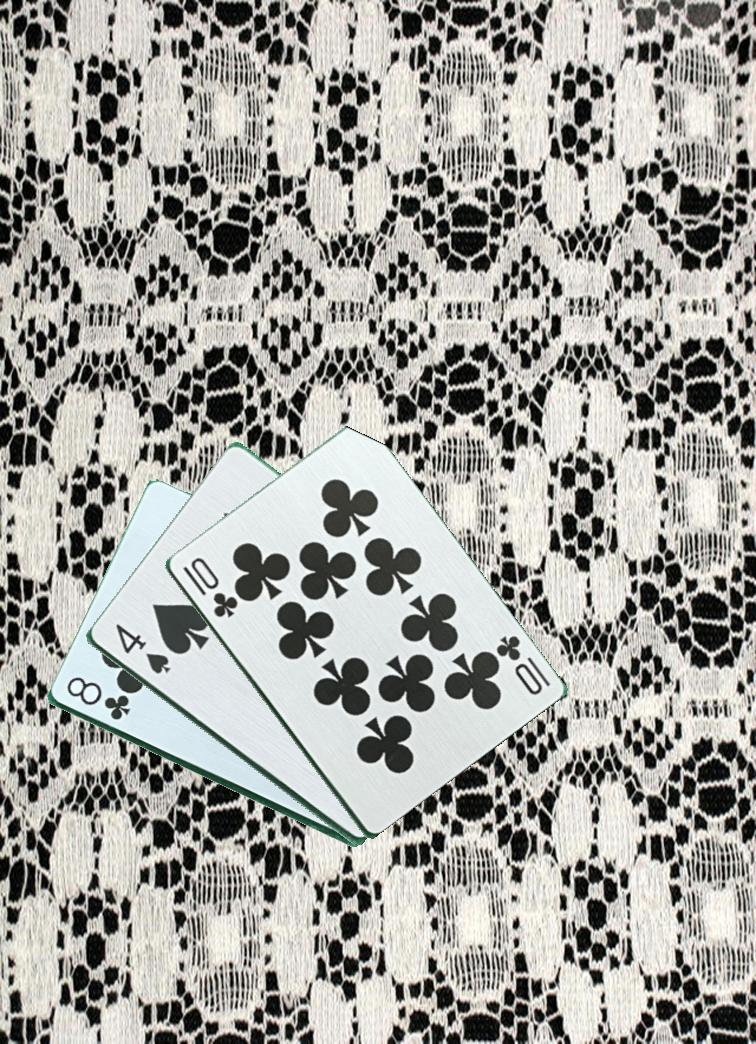4s: (111, 620, 173, 678)
8c: (62, 674, 133, 724)
tc: (178, 547, 245, 624), (491, 631, 553, 699)
